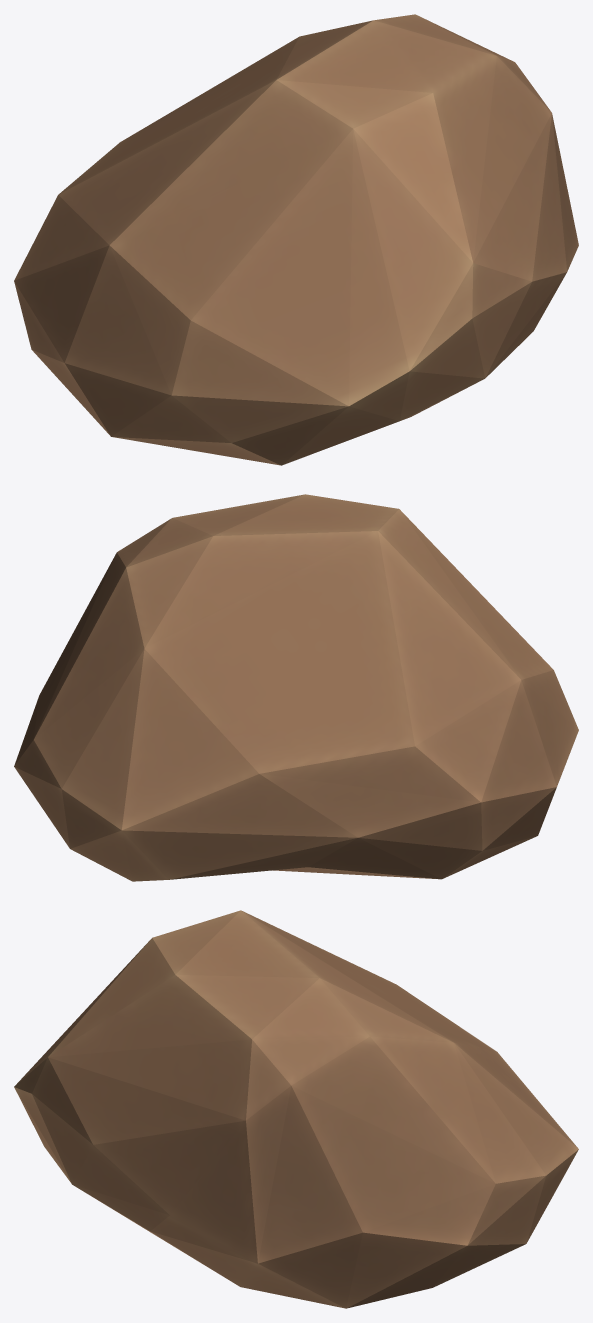
Rendered from Rock_45.fbx.
3 renders of one model, top to bottom at view 1: azimuth 30°, elevation 25°; view 2: azimuth 150°, elevation 25°; view 3: azimuth 270°, elevation 25°, orthographic. The views are drawn at different scales.
Visible parts, largest first — view 1: Rock_45; view 2: Rock_45; view 3: Rock_45.
Part boxes in pixels (x1=…): Rock_45: x1=14, y1=14, x2=578, y2=465; Rock_45: x1=14, y1=494, x2=578, y2=881; Rock_45: x1=14, y1=910, x2=578, y2=1308.
Size of the model in its own units: 37.34 by 21.12 by 39.73.
